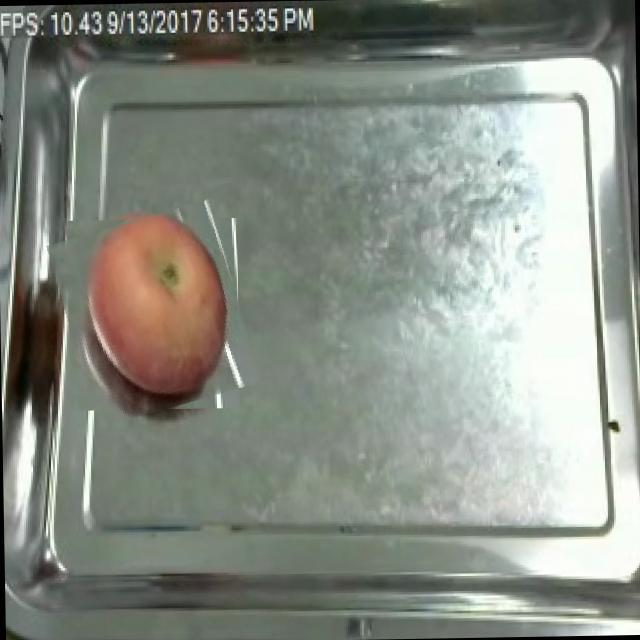apple: (86, 213, 227, 397)
